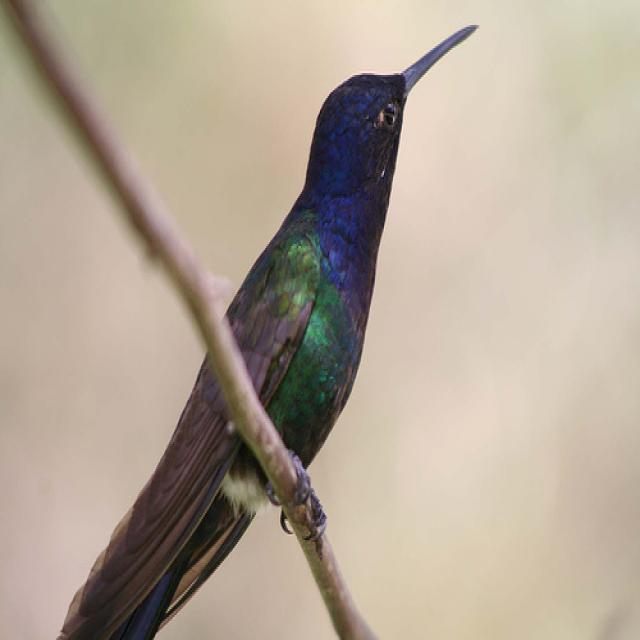bird: (60, 26, 477, 639)
